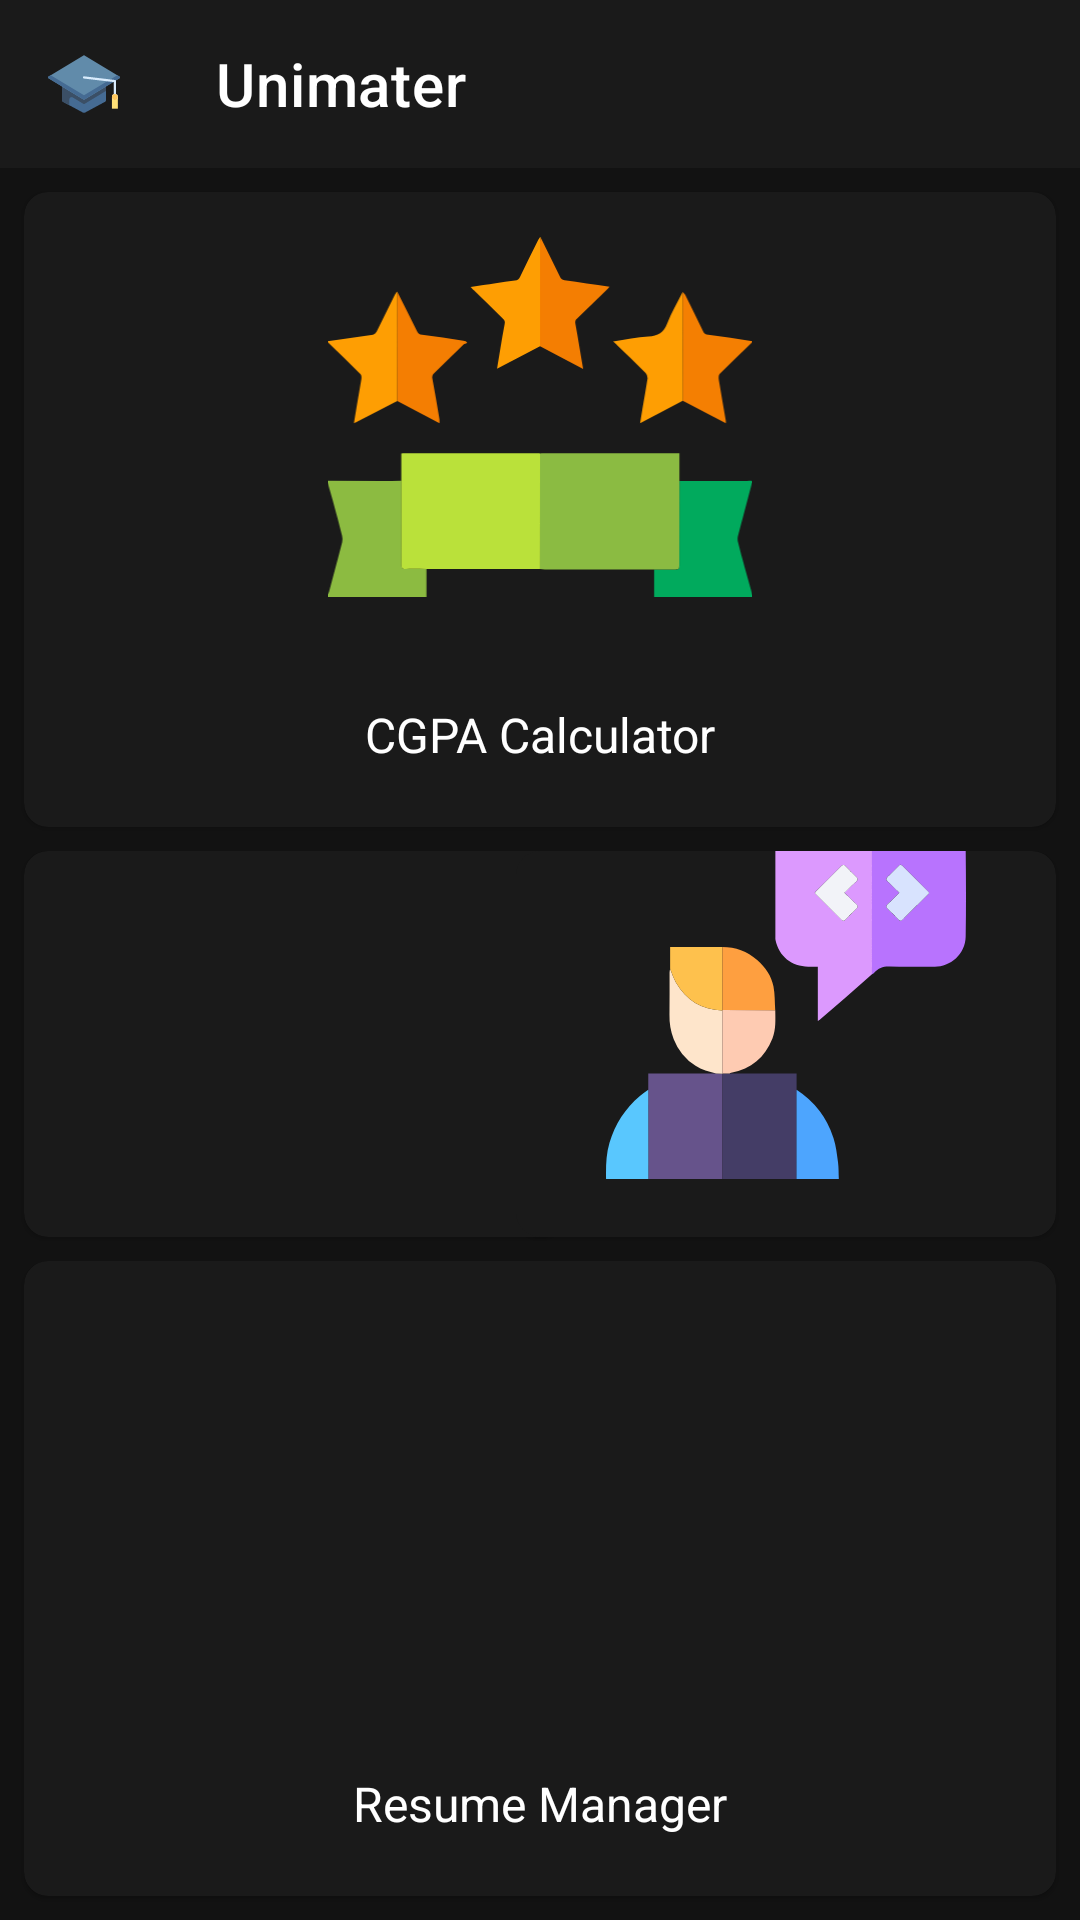

Screen size 1080 × 1920. Icon name, then its box in pixels as (x1, y1, x2, y2):
programmer: (606, 851, 966, 1179)
